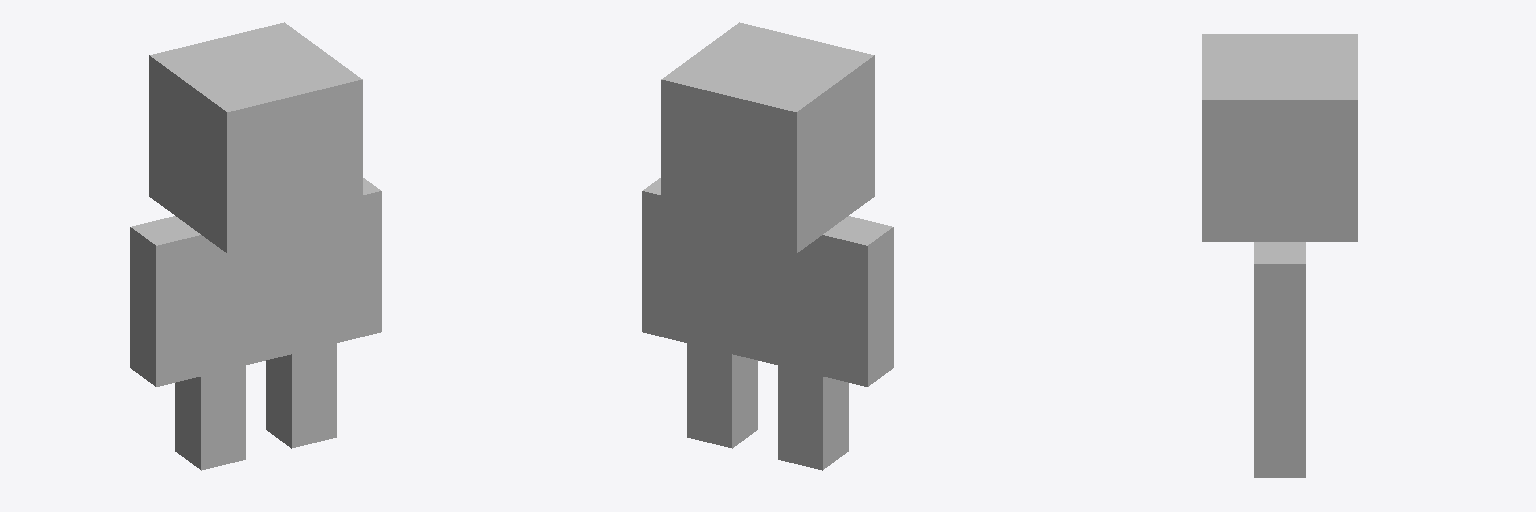
3 views of the same model, side by side, from view 1: azimuth 30°, elevation 25°; view 2: azimuth 150°, elevation 25°; view 3: azimuth 270°, elevation 25° (orthographic).
Parts seen in each view (by area): view 1: petz_flamingo.Layer_Plane-tex; view 2: petz_flamingo.Layer_Plane-tex; view 3: petz_flamingo.Layer_Plane-tex.
Part boxes in pixels (x1,y1,x2,y2): petz_flamingo.Layer_Plane-tex: (130, 22, 381, 470); petz_flamingo.Layer_Plane-tex: (642, 22, 893, 470); petz_flamingo.Layer_Plane-tex: (1202, 34, 1357, 477).
Bounding box in the file's own units: 0.3125 × 0.5 × 0.1875.